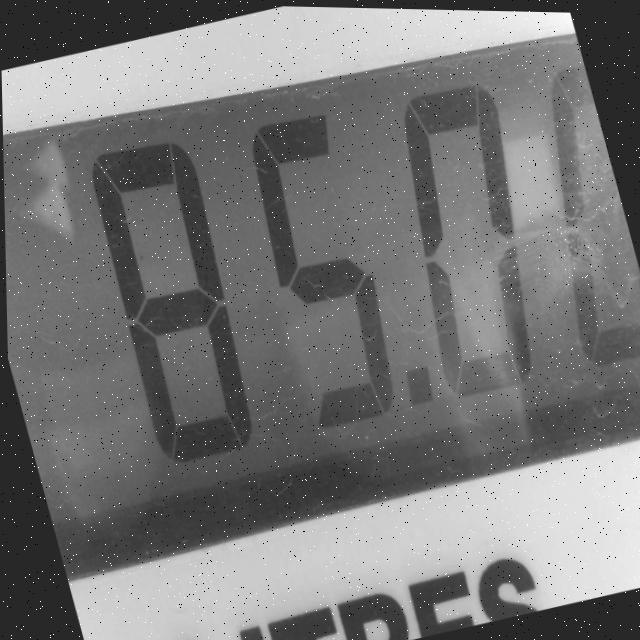.: (376, 337, 454, 444)
0: (352, 47, 587, 435), (502, 50, 640, 401)
5: (213, 88, 421, 451)
8: (58, 106, 286, 497)
